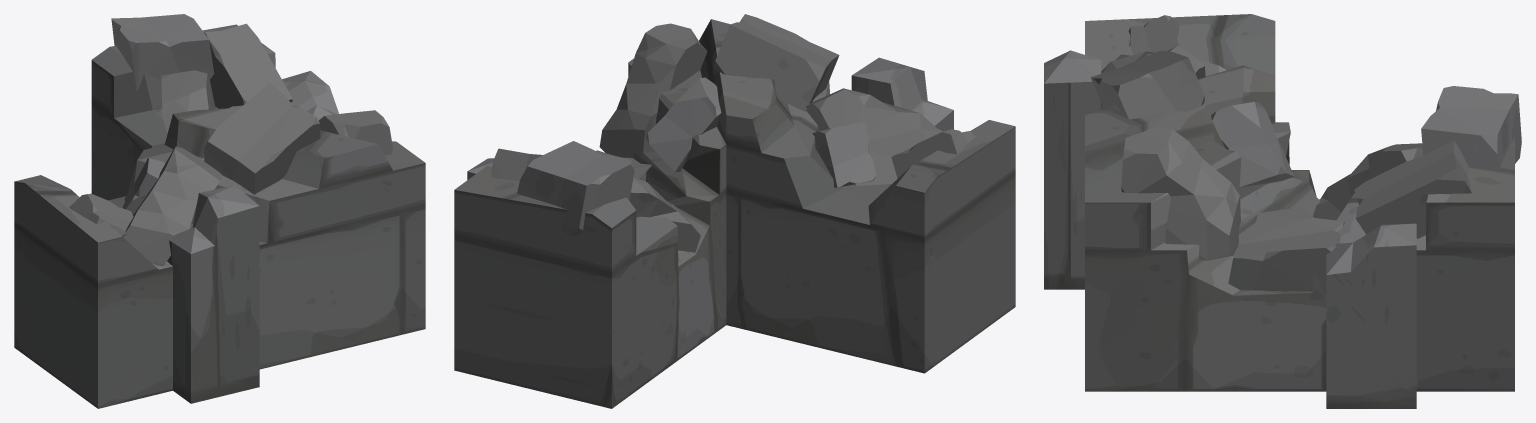
The model's file is SM_Bld_Wall_L_Corner_Damaged_02.fbx.
The picture shows the model from 3 angles, left to right: view 1: azimuth 30°, elevation 25°; view 2: azimuth 150°, elevation 25°; view 3: azimuth 270°, elevation 25°; orthographic projection. The views are drawn at different scales.
Visible parts, largest first — view 1: SM_Bld_Wall_L_Corner_Damaged_02; view 2: SM_Bld_Wall_L_Corner_Damaged_02; view 3: SM_Bld_Wall_L_Corner_Damaged_02.
Part boxes in pixels (left/top/right/bottom): SM_Bld_Wall_L_Corner_Damaged_02: left=14, top=14, right=425, bottom=408; SM_Bld_Wall_L_Corner_Damaged_02: left=454, top=14, right=1015, bottom=408; SM_Bld_Wall_L_Corner_Damaged_02: left=1044, top=14, right=1521, bottom=408.
Bounding box in the file's own units: 447 × 286 × 454.
Materials: 3 (3 with a texture image).
